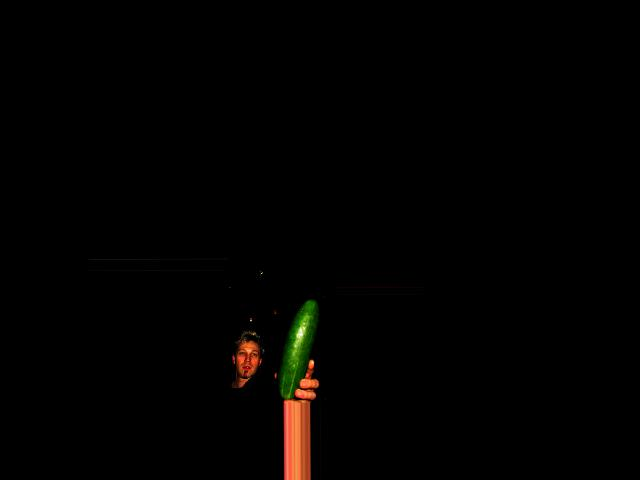cucumber: (278, 299, 320, 399)
